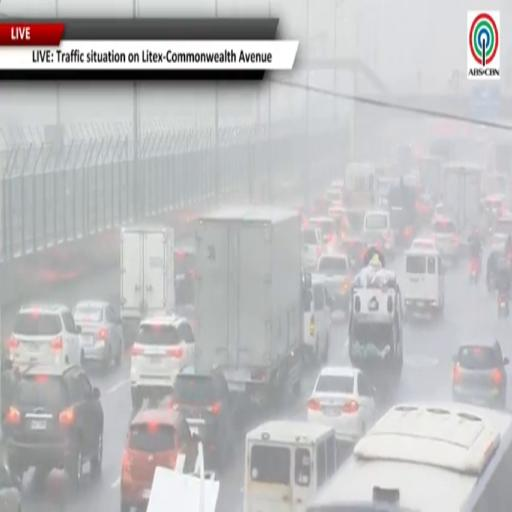bus: (308, 403, 511, 511)
car: (3, 365, 103, 490), (120, 404, 197, 511), (170, 366, 236, 472), (131, 314, 194, 409), (307, 366, 375, 442), (9, 304, 81, 365), (453, 341, 509, 408), (73, 300, 124, 371), (304, 275, 330, 362), (316, 253, 353, 312), (363, 211, 395, 254), (432, 217, 461, 262), (175, 247, 196, 306), (0, 461, 21, 511), (308, 216, 338, 251), (302, 228, 324, 270), (341, 236, 368, 270), (491, 216, 512, 248), (411, 238, 435, 250), (433, 202, 446, 219)
motorcycle: (498, 292, 509, 318), (470, 258, 480, 285)
truck: (195, 206, 304, 406), (349, 248, 403, 387), (120, 226, 175, 343), (442, 164, 482, 234)
